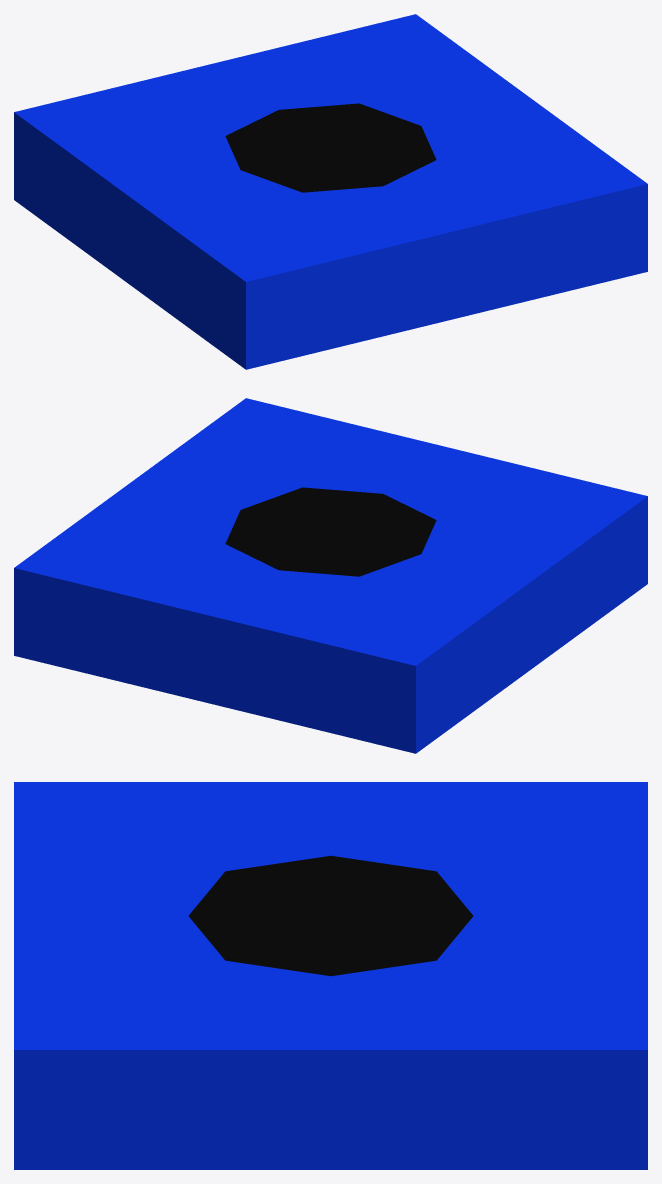
The picture shows the model from 3 angles, top to bottom: view 1: azimuth 30°, elevation 25°; view 2: azimuth 150°, elevation 25°; view 3: azimuth 270°, elevation 25°; orthographic projection. The views are drawn at different scales.
Parts seen in each view (by area): view 1: Box.003; view 2: Box.003; view 3: Box.003.
Part boxes in pixels (bbox=[...]): Box.003: bbox=[14, 14, 647, 369]; Box.003: bbox=[14, 398, 647, 753]; Box.003: bbox=[14, 782, 647, 1169].
Size of the model in its own units: 52.72 by 11.01 by 52.72.
